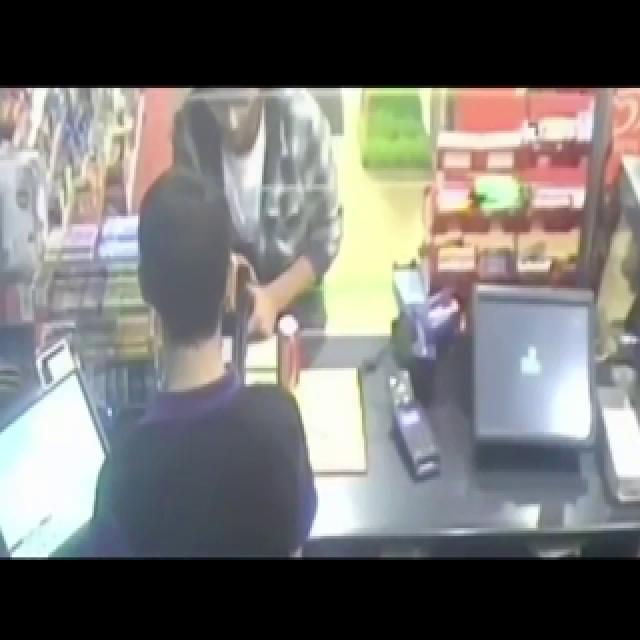robbery: (65, 142, 375, 465)
